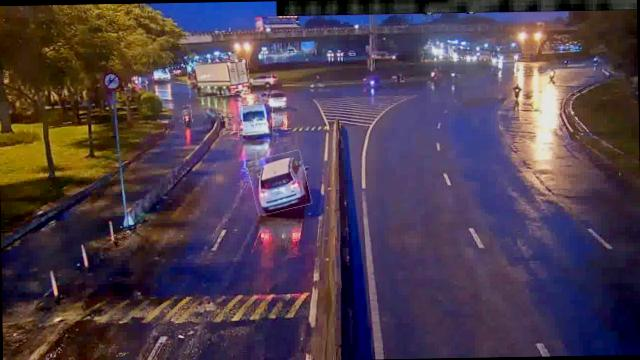Bike: (182, 106, 192, 123)
Bus: (238, 102, 272, 140)
Car: (249, 152, 309, 213)
Truck: (187, 59, 250, 97)
